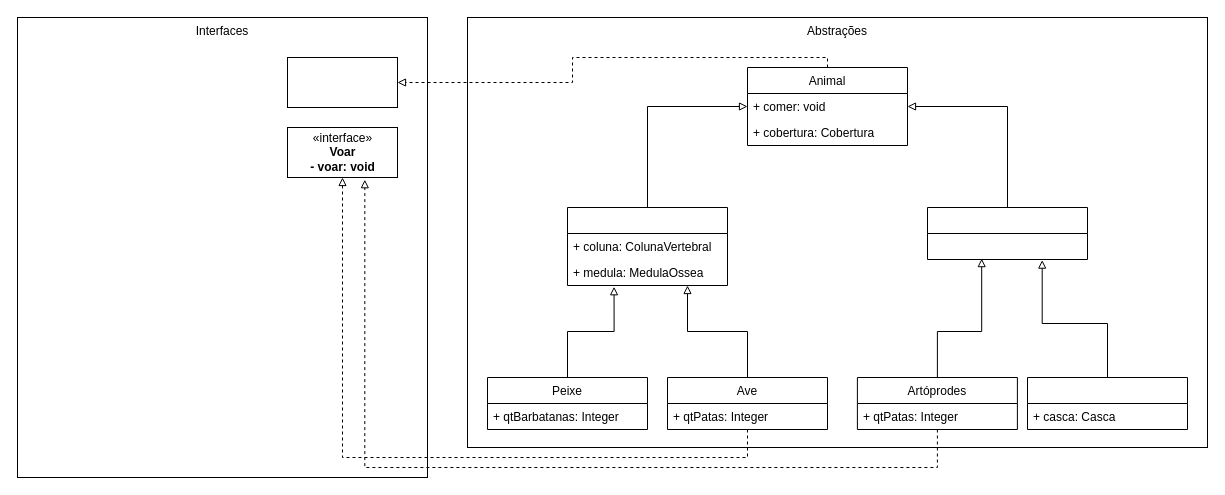
This 1225x495 diagram has some shape labels left out. The box of each missing label's shape, as (x1, y1, x2, y2) in pixels:
Invertebrados: (926, 206, 1088, 260)
Moluscos: (1026, 376, 1188, 430)
Vertebrados: (566, 206, 728, 286)
«interface» Móvel - mover: void: (286, 56, 398, 108)
